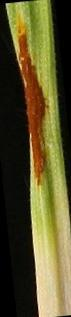Sugarcane: (12, 10, 53, 187)
